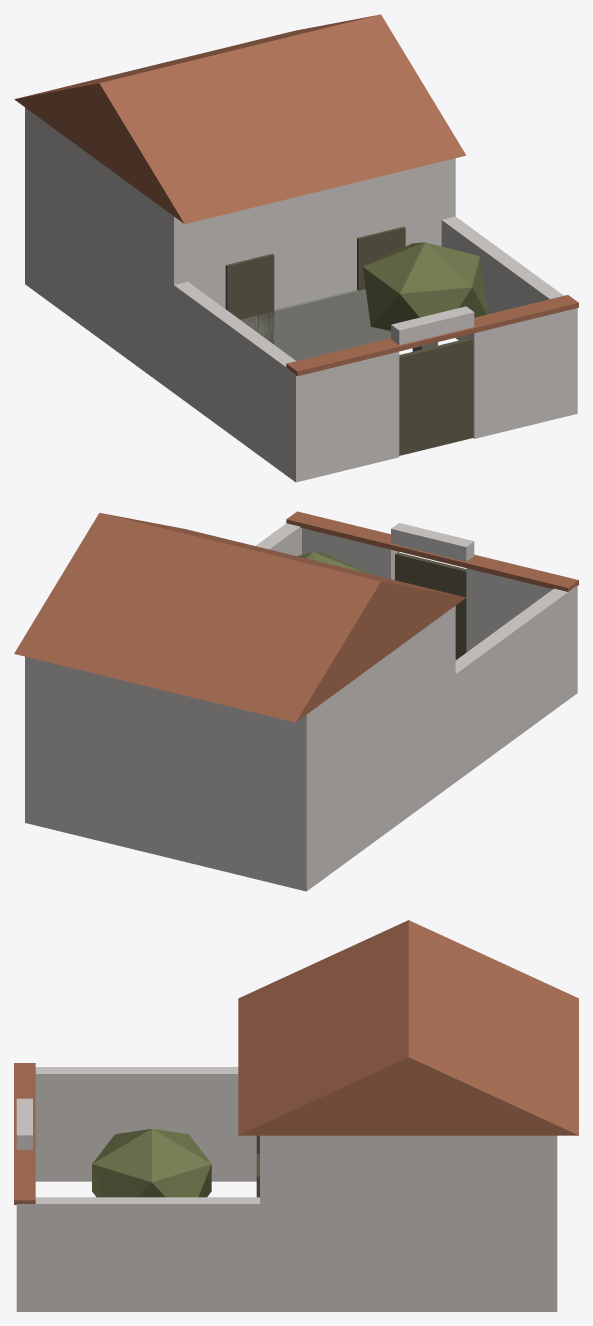
File: SM_CasaPatio_v3_Naranjo_LOD1.fbx
The picture shows the model from 3 angles, top to bottom: view 1: azimuth 30°, elevation 25°; view 2: azimuth 150°, elevation 25°; view 3: azimuth 270°, elevation 25°; orthographic projection.
Visible parts, largest first — view 1: SM_pueblo_valenciano_v18_LOD1; view 2: SM_pueblo_valenciano_v18_LOD1; view 3: SM_pueblo_valenciano_v18_LOD1.
Boxes of the visible parts, x1,y1,x2,y2 form: SM_pueblo_valenciano_v18_LOD1: (14,14,578,482); SM_pueblo_valenciano_v18_LOD1: (14,511,578,891); SM_pueblo_valenciano_v18_LOD1: (14,920,578,1311).
Size of the model in its own units: 6 by 5.2 by 10.45.
